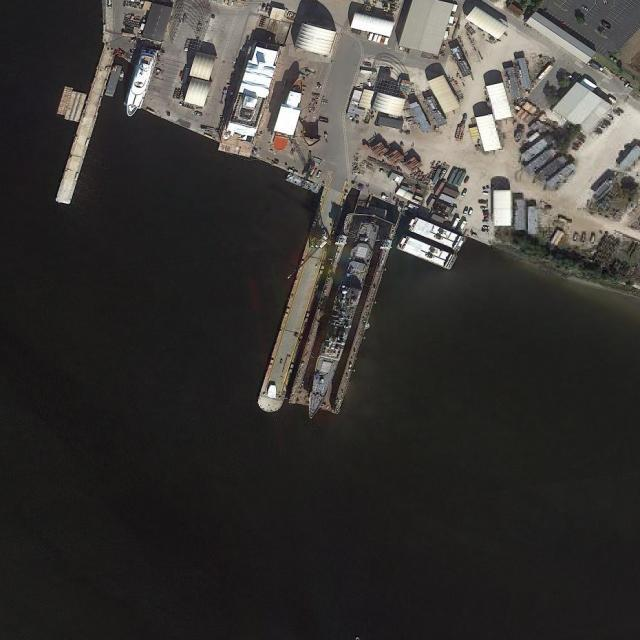Cruiser: (296, 219, 383, 420)
Dock: (253, 180, 350, 416), (54, 45, 116, 209)
Yacht: (123, 53, 155, 119)
